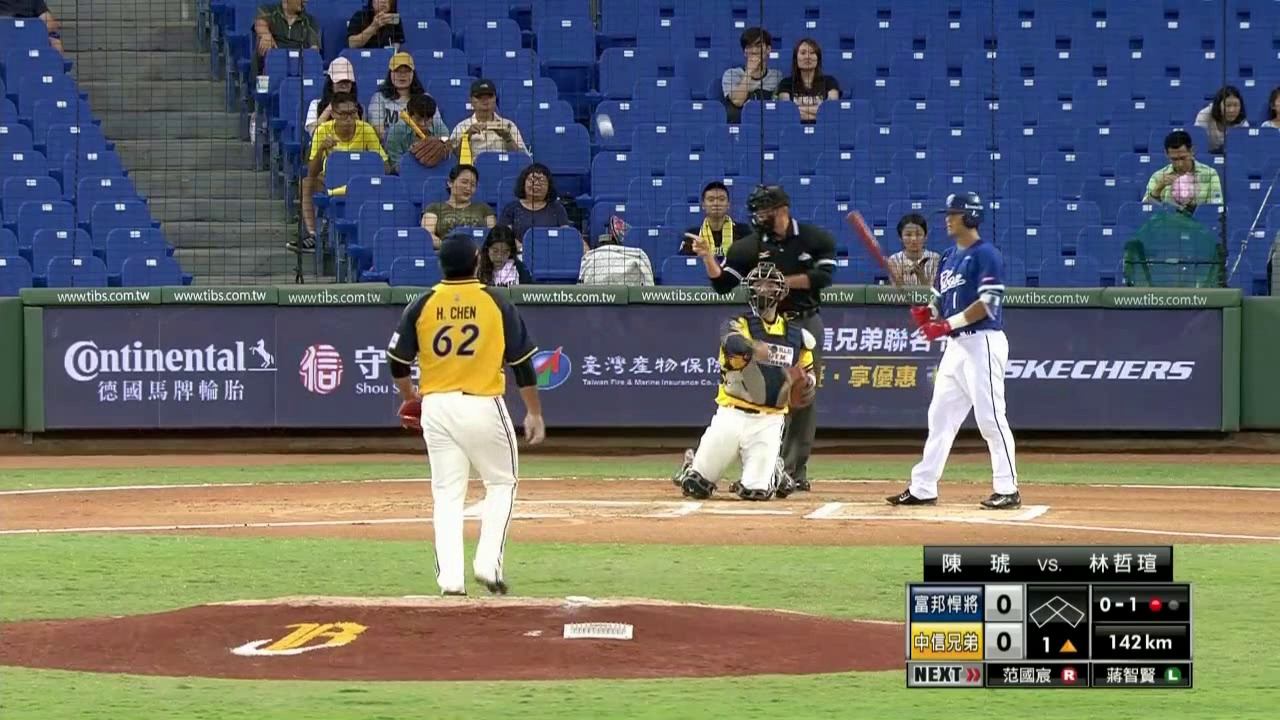ball: (597, 121, 612, 134)
base: (1023, 591, 1086, 632)
bat: (850, 211, 920, 309)
out: (1144, 592, 1182, 614)
score1: (991, 587, 1018, 624)
score2: (991, 628, 1021, 657)
session: (1029, 632, 1084, 658)
speed: (1094, 629, 1184, 658)
strikeball: (1093, 588, 1143, 624)
